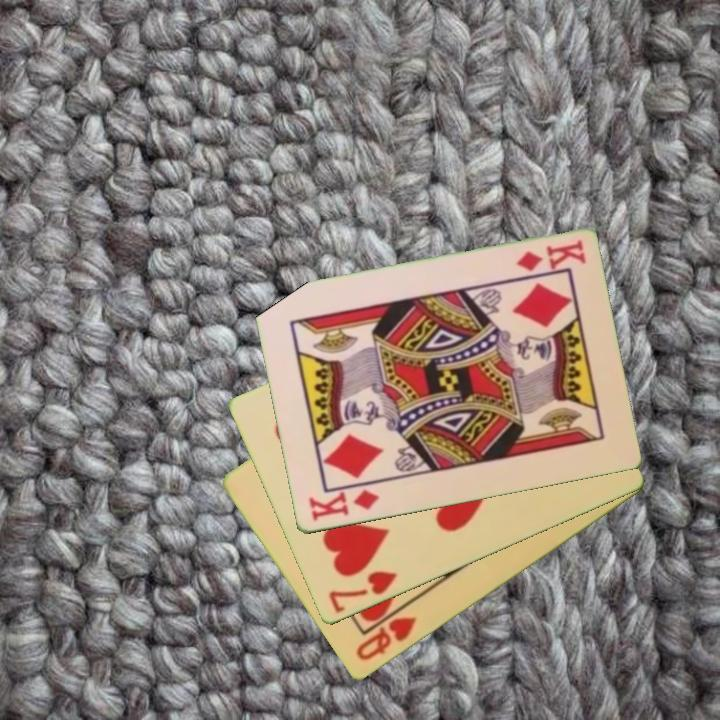7h: (325, 568, 400, 617)
Kd: (305, 486, 382, 524), (512, 237, 588, 275)
Qh: (352, 613, 420, 665)
